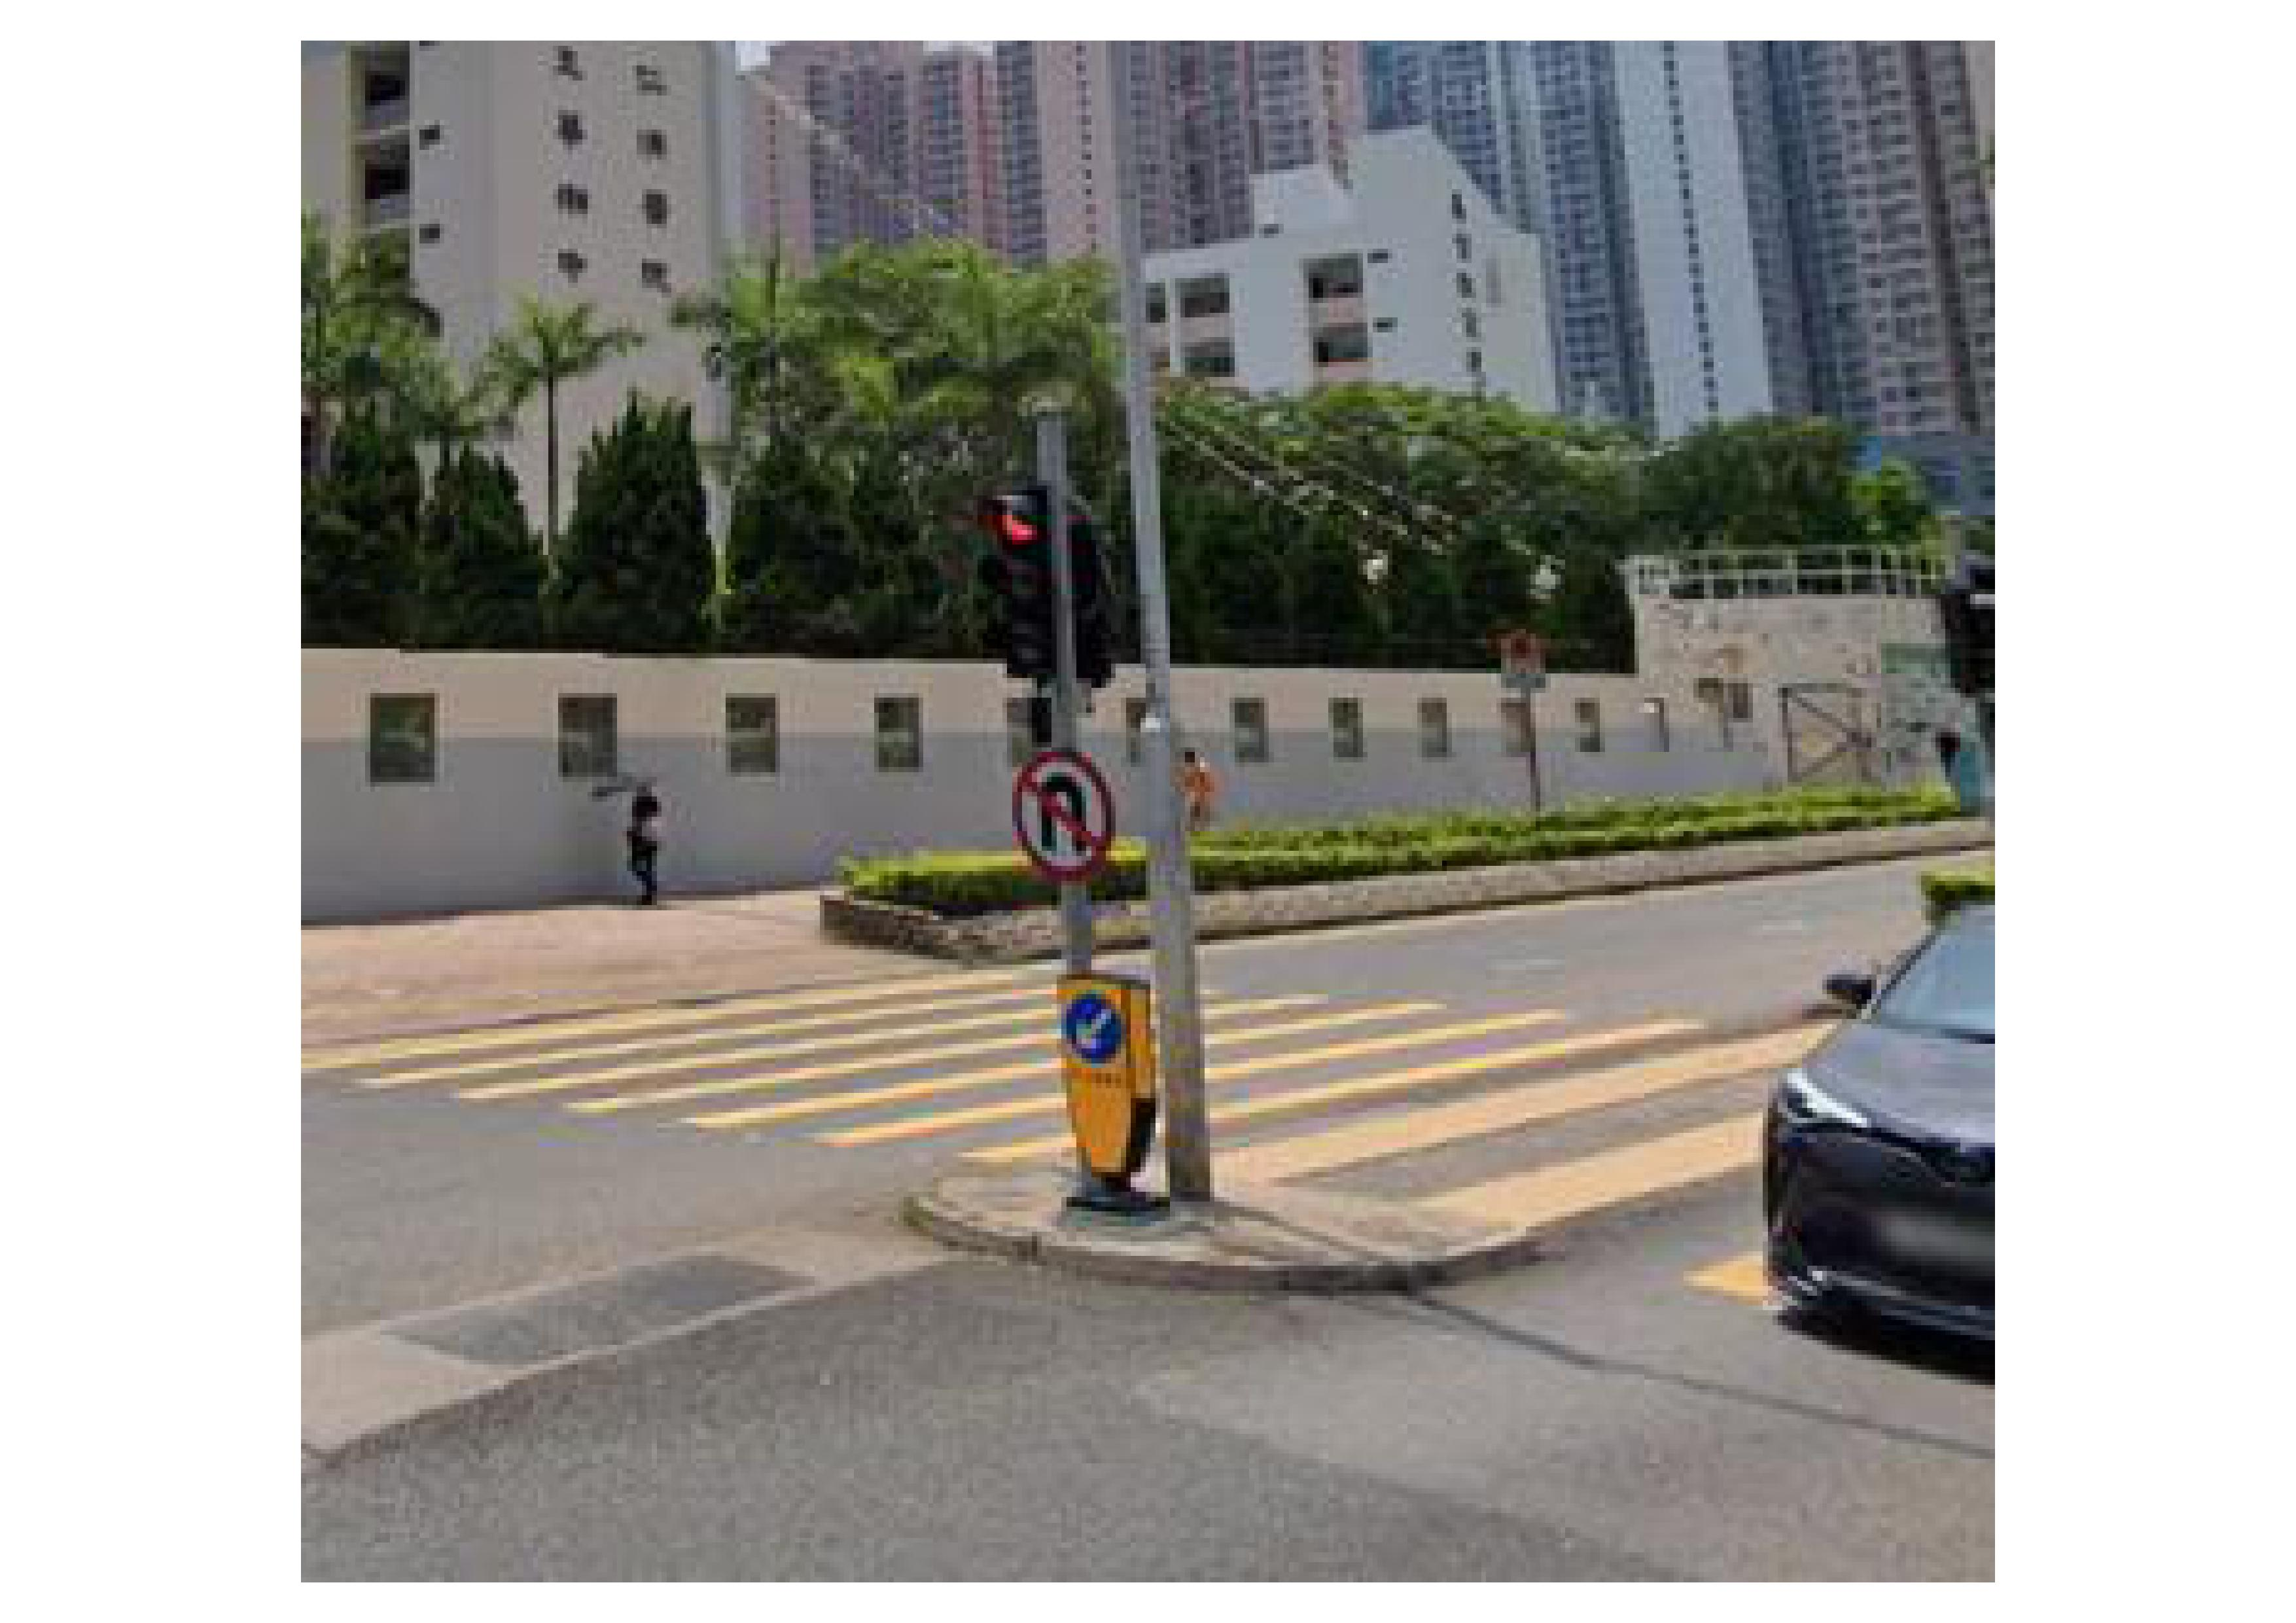No Uturn: (1002, 750, 1132, 878)
